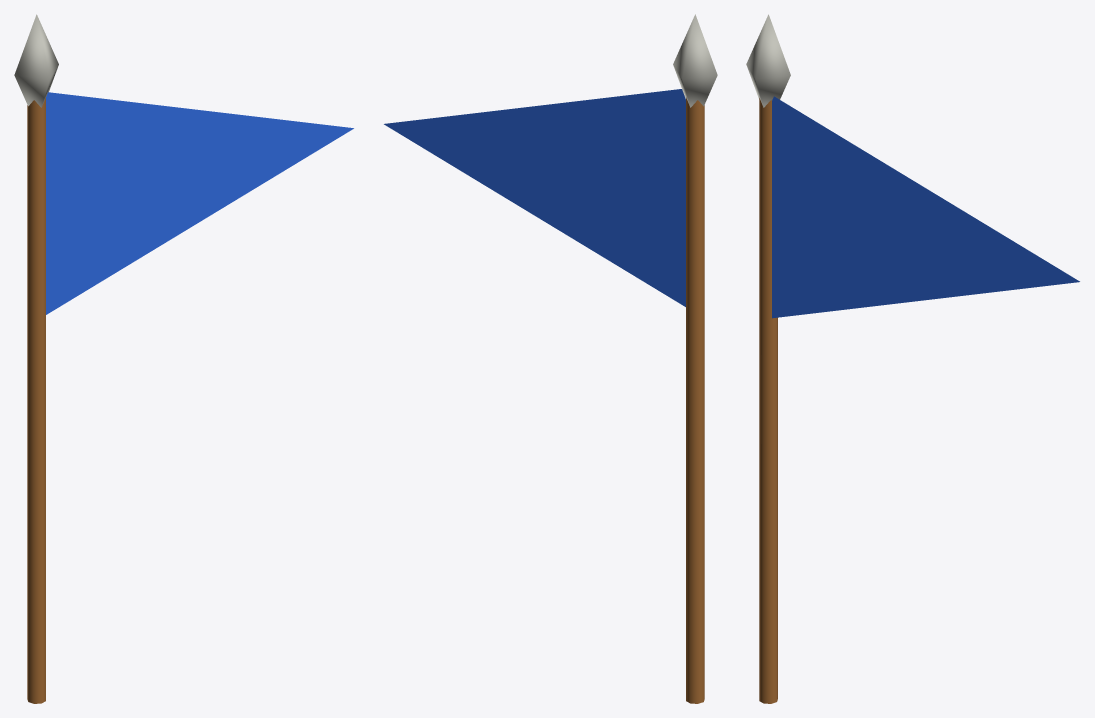
The picture shows the model from 3 angles, left to right: view 1: azimuth 30°, elevation 25°; view 2: azimuth 150°, elevation 25°; view 3: azimuth 330°, elevation 25°; orthographic projection.
Visible parts, largest first — view 1: LQ_01; view 2: LQ_01; view 3: LQ_01.
Boxes of the visible parts, x1,y1,x2,y2 form: LQ_01: (14, 14, 353, 703); LQ_01: (384, 14, 717, 703); LQ_01: (746, 14, 1079, 703).
Bounding box in the file's own units: 2270 × 4411 × 301.
